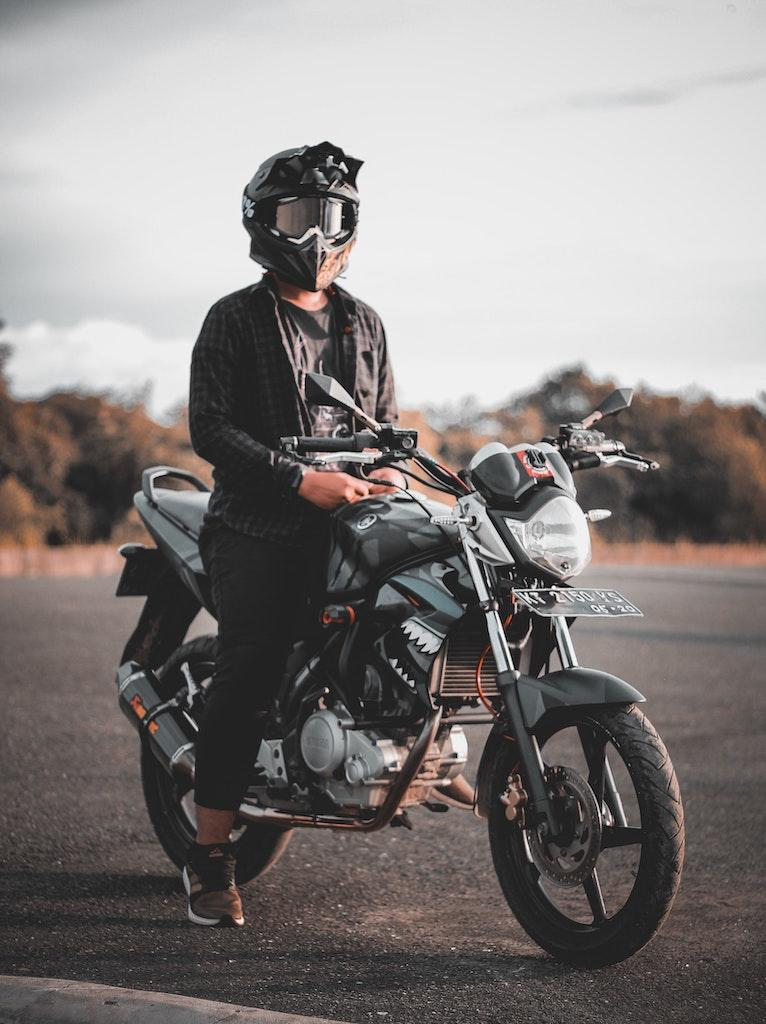helmet: (240, 140, 365, 294)
